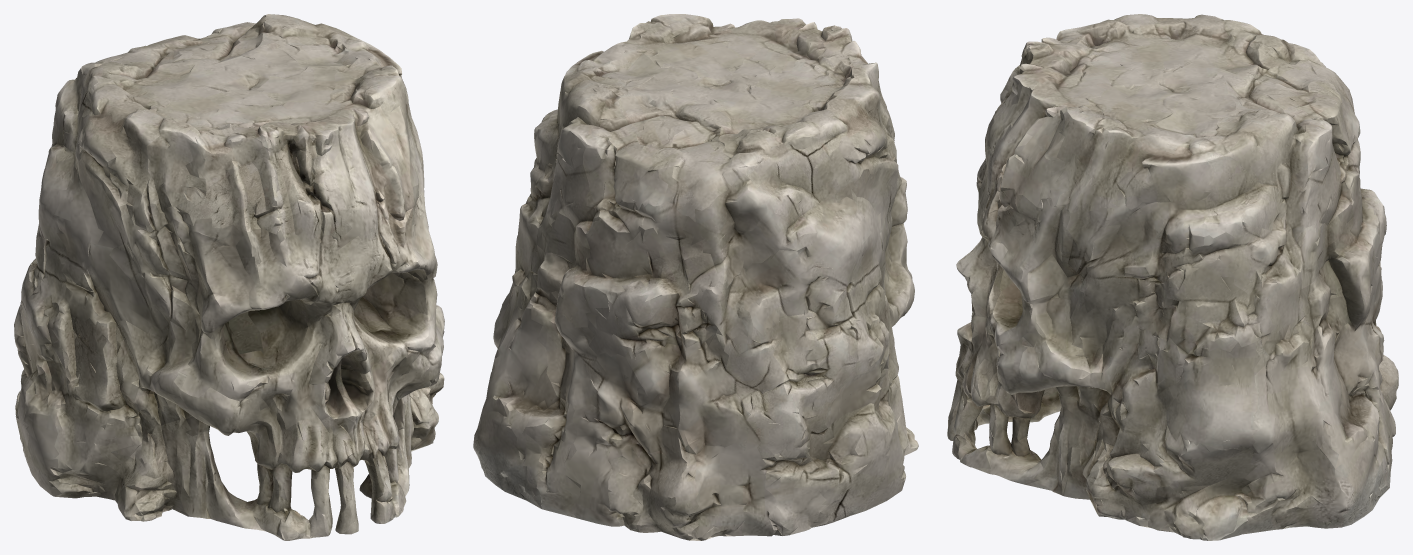
The model's file is sv_skullcliff.glb.
The picture shows the model from 3 angles, left to right: view 1: azimuth 30°, elevation 25°; view 2: azimuth 150°, elevation 25°; view 3: azimuth 270°, elevation 25°; orthographic projection. The views are drawn at different scales.
Size of the model in its own units: 1.86 by 1.79 by 1.9.
Materials: 1 (1 with a texture image).
